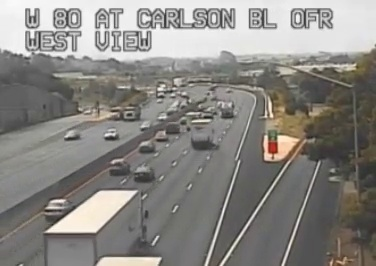car: (45, 199, 72, 220), (133, 167, 153, 182), (109, 159, 129, 174), (139, 142, 154, 152)
small-truck: (189, 119, 213, 147)
truck: (45, 189, 143, 266)
